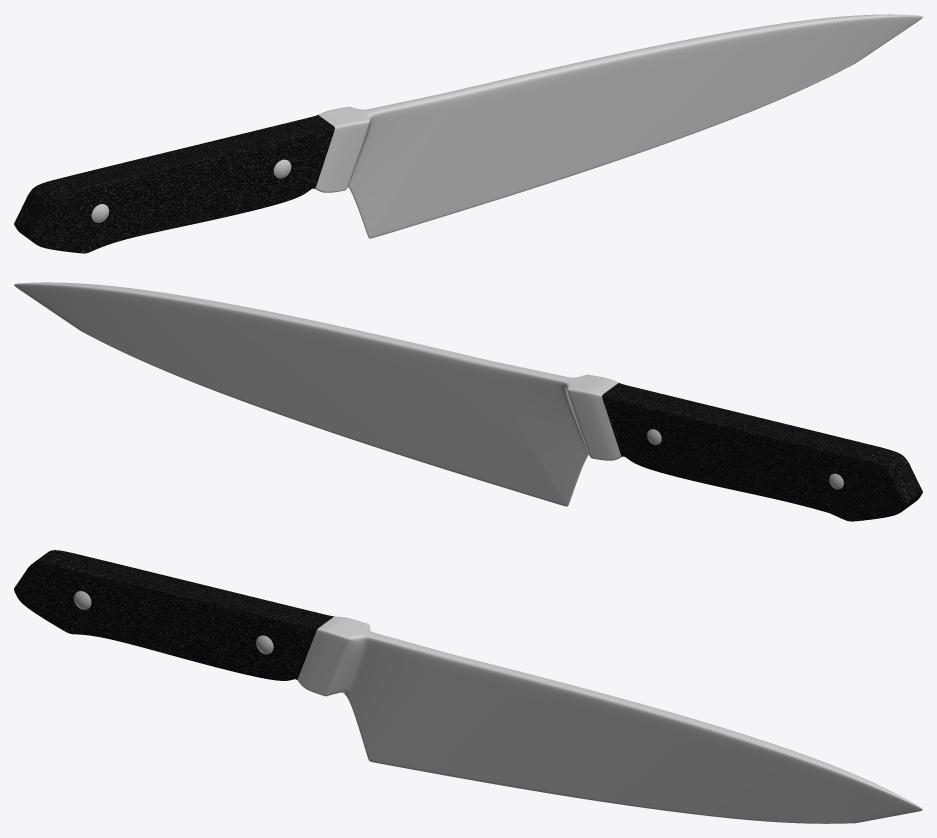
The model's file is Realistic_Knife.fbx.
3 views of the same model, one above another, from view 1: azimuth 30°, elevation 25°; view 2: azimuth 150°, elevation 25°; view 3: azimuth 330°, elevation 25° (orthographic).
Parts seen in each view (by area): view 1: Cube_Cube.001; view 2: Cube_Cube.001; view 3: Cube_Cube.001.
Boxes of the visible parts, x1,y1,x2,y2 form: Cube_Cube.001: [14, 14, 922, 253]; Cube_Cube.001: [14, 282, 922, 521]; Cube_Cube.001: [14, 550, 922, 823].
Bounding box in the file's own units: 989 × 136 × 39.67.
2 materials, 1 textured.
